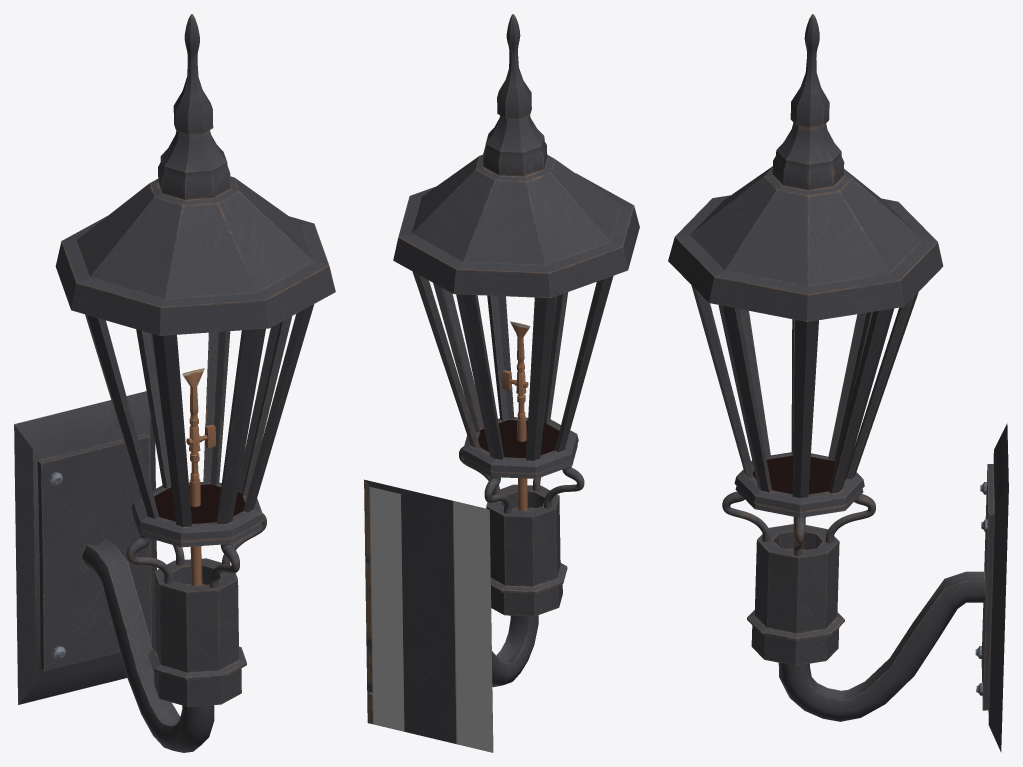
3 renders of one model, left to right at view 1: azimuth 30°, elevation 25°; view 2: azimuth 150°, elevation 25°; view 3: azimuth 270°, elevation 25°, orthographic. The views are drawn at different scales.
Visible parts, largest first — view 1: Wall_Gas_Lamp_Cube.027; view 2: Wall_Gas_Lamp_Cube.027; view 3: Wall_Gas_Lamp_Cube.027.
Part boxes in pixels (x1=…): Wall_Gas_Lamp_Cube.027: x1=14, y1=14, x2=335, y2=752; Wall_Gas_Lamp_Cube.027: x1=364, y1=14, x2=639, y2=752; Wall_Gas_Lamp_Cube.027: x1=668, y1=14, x2=1008, y2=752.
Size of the model in its own units: 0.1409 by 0.4 by 0.1744.
Materials: 1 (1 with a texture image).
